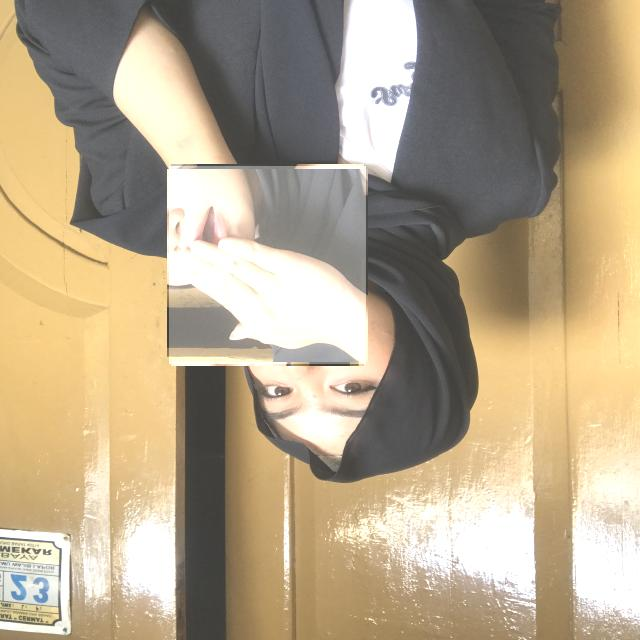ngantuk: (169, 166, 366, 364)
